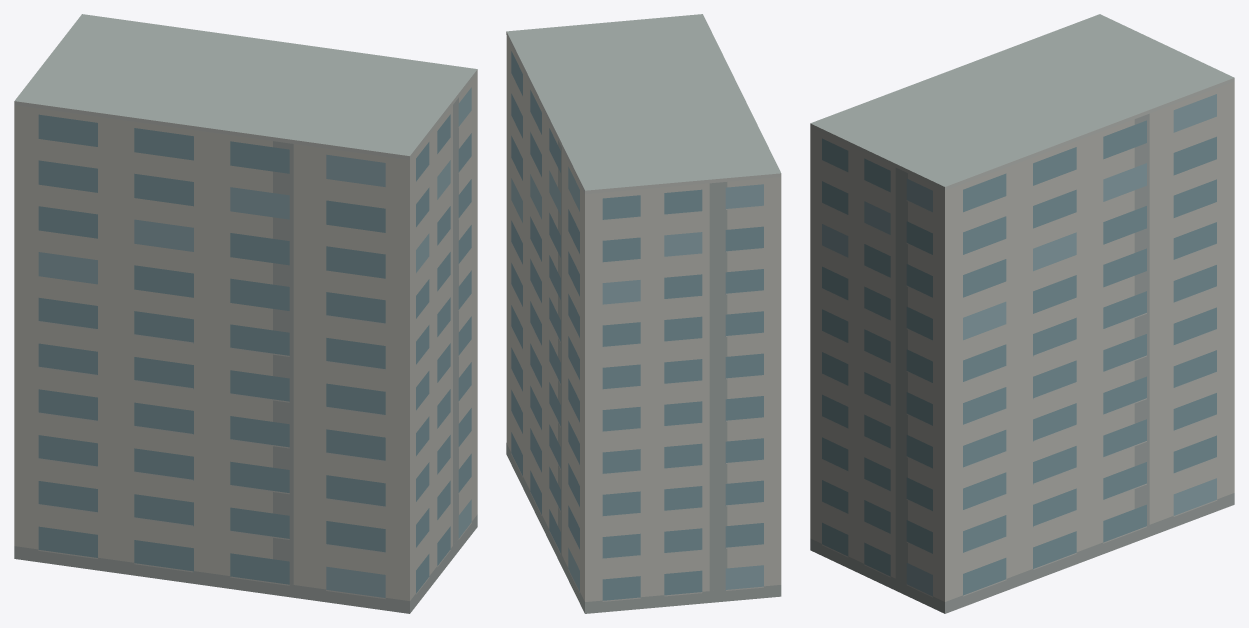
File: residential-84f8c96d-82bc-47d1-b5d9-9641bfdcd809.glb
The picture shows the model from 3 angles, left to right: view 1: azimuth 30°, elevation 25°; view 2: azimuth 150°, elevation 25°; view 3: azimuth 270°, elevation 25°; orthographic projection. The views are drawn at different scales.
Parts seen in each view (by area): view 1: residential-84f8c96d-82bc-47d1-b5d9-9641bfdcd809.tmp; view 2: residential-84f8c96d-82bc-47d1-b5d9-9641bfdcd809.tmp; view 3: residential-84f8c96d-82bc-47d1-b5d9-9641bfdcd809.tmp.
Part boxes in pixels (x1,y1,x2,y2): residential-84f8c96d-82bc-47d1-b5d9-9641bfdcd809.tmp: (14,14,477,613); residential-84f8c96d-82bc-47d1-b5d9-9641bfdcd809.tmp: (506,14,781,613); residential-84f8c96d-82bc-47d1-b5d9-9641bfdcd809.tmp: (810,14,1234,613).
Size of the model in its own units: 24.35 by 28 by 25.25.
